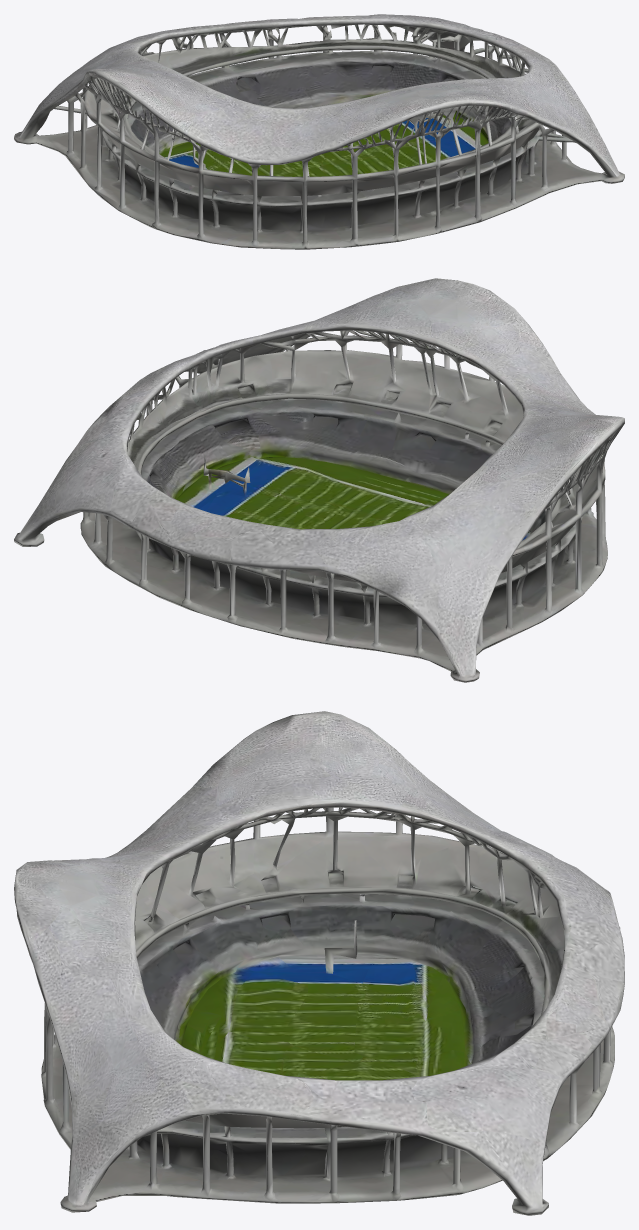
File: lm_stadium.glb
The picture shows the model from 3 angles, top to bottom: view 1: azimuth 30°, elevation 25°; view 2: azimuth 150°, elevation 25°; view 3: azimuth 270°, elevation 25°; orthographic projection. The views are drawn at different scales.
Visible parts, largest first — view 1: tripo_node_752411ee-56ad-4d72-af97-9ceae1679362; view 2: tripo_node_752411ee-56ad-4d72-af97-9ceae1679362; view 3: tripo_node_752411ee-56ad-4d72-af97-9ceae1679362.
Boxes of the visible parts, x1=… form: tripo_node_752411ee-56ad-4d72-af97-9ceae1679362: x1=14, y1=14, x2=624, y2=249; tripo_node_752411ee-56ad-4d72-af97-9ceae1679362: x1=14, y1=278, x2=624, y2=682; tripo_node_752411ee-56ad-4d72-af97-9ceae1679362: x1=14, y1=711, x2=624, y2=1215.
Size of the model in its own units: 1 by 0.3153 by 0.8566.
Materials: 1 (1 with a texture image).
